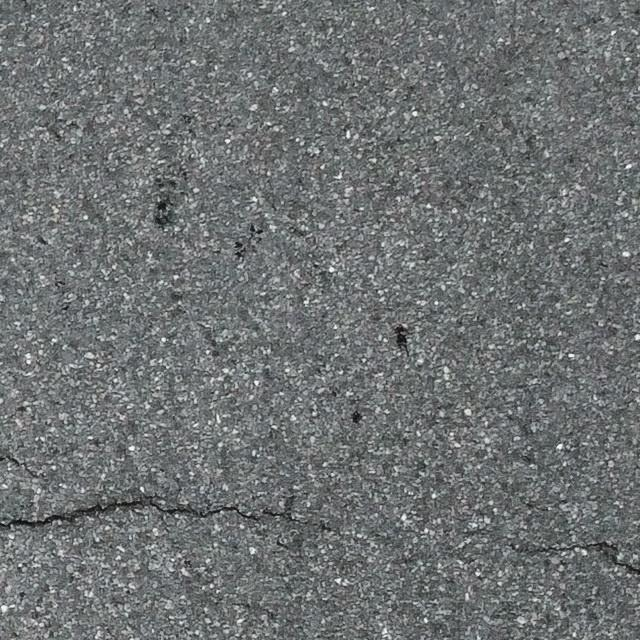TransverseCrack: (2, 501, 332, 532), (542, 540, 639, 572)
